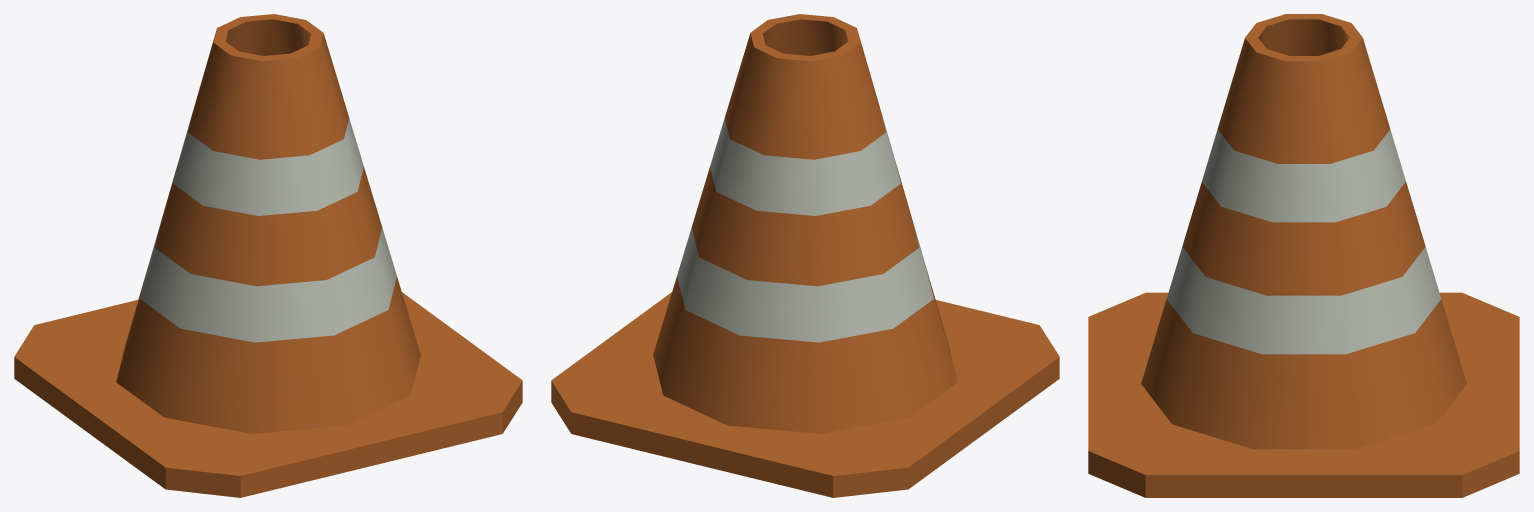
Rendered from Traffic Cone.glb.
3 renders of one model, left to right at view 1: azimuth 30°, elevation 25°; view 2: azimuth 150°, elevation 25°; view 3: azimuth 270°, elevation 25°, orthographic. The views are drawn at different scales.
Visible parts, largest first — view 1: Traffic Cone; view 2: Traffic Cone; view 3: Traffic Cone.
Boxes of the visible parts, x1,y1,x2,y2 form: Traffic Cone: (14, 14, 522, 497); Traffic Cone: (551, 14, 1059, 497); Traffic Cone: (1088, 14, 1519, 497).
Size of the model in its own units: 0.2159 by 0.2037 by 0.2159.
